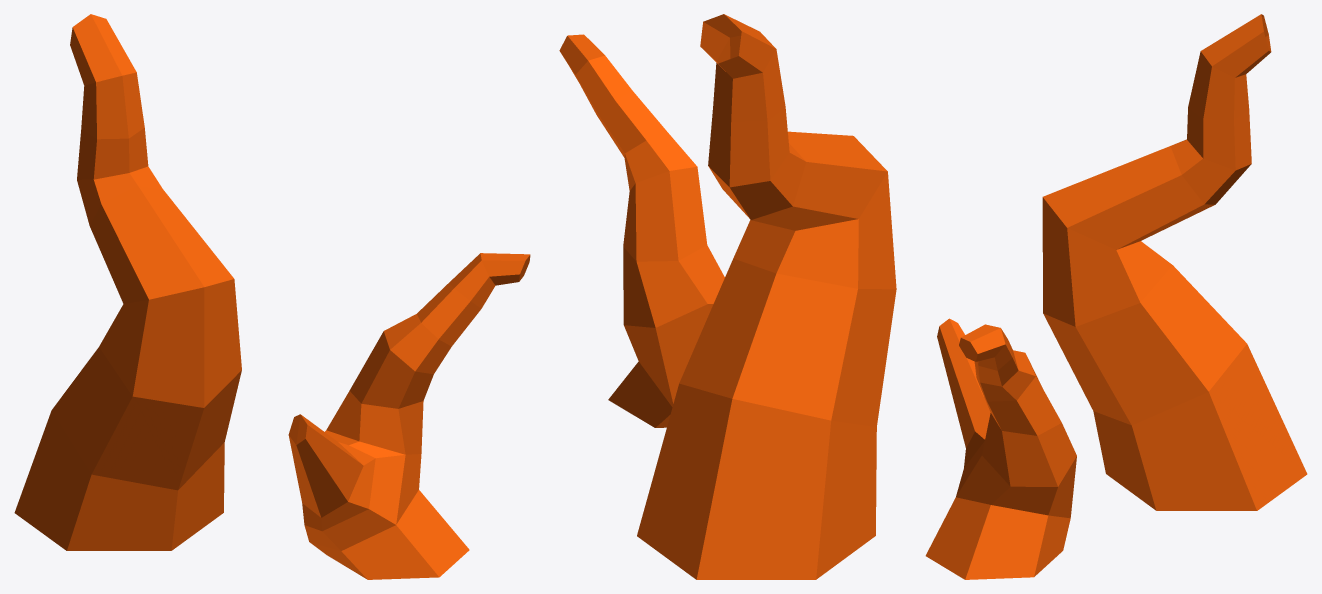
The model's file is st1_tree5.fbx.
3 views of the same model, side by side, from view 1: azimuth 30°, elevation 25°; view 2: azimuth 150°, elevation 25°; view 3: azimuth 270°, elevation 25° (orthographic). The views are drawn at different scales.
Parts seen in each view (by area): view 1: 5_tree; view 2: 5_tree; view 3: 5_tree.
Boxes of the visible parts, x1,y1,x2,y2 form: 5_tree: (14,14,530,579); 5_tree: (559,14,896,579); 5_tree: (925,14,1307,579).
Size of the model in its own units: 142 by 175 by 132.
